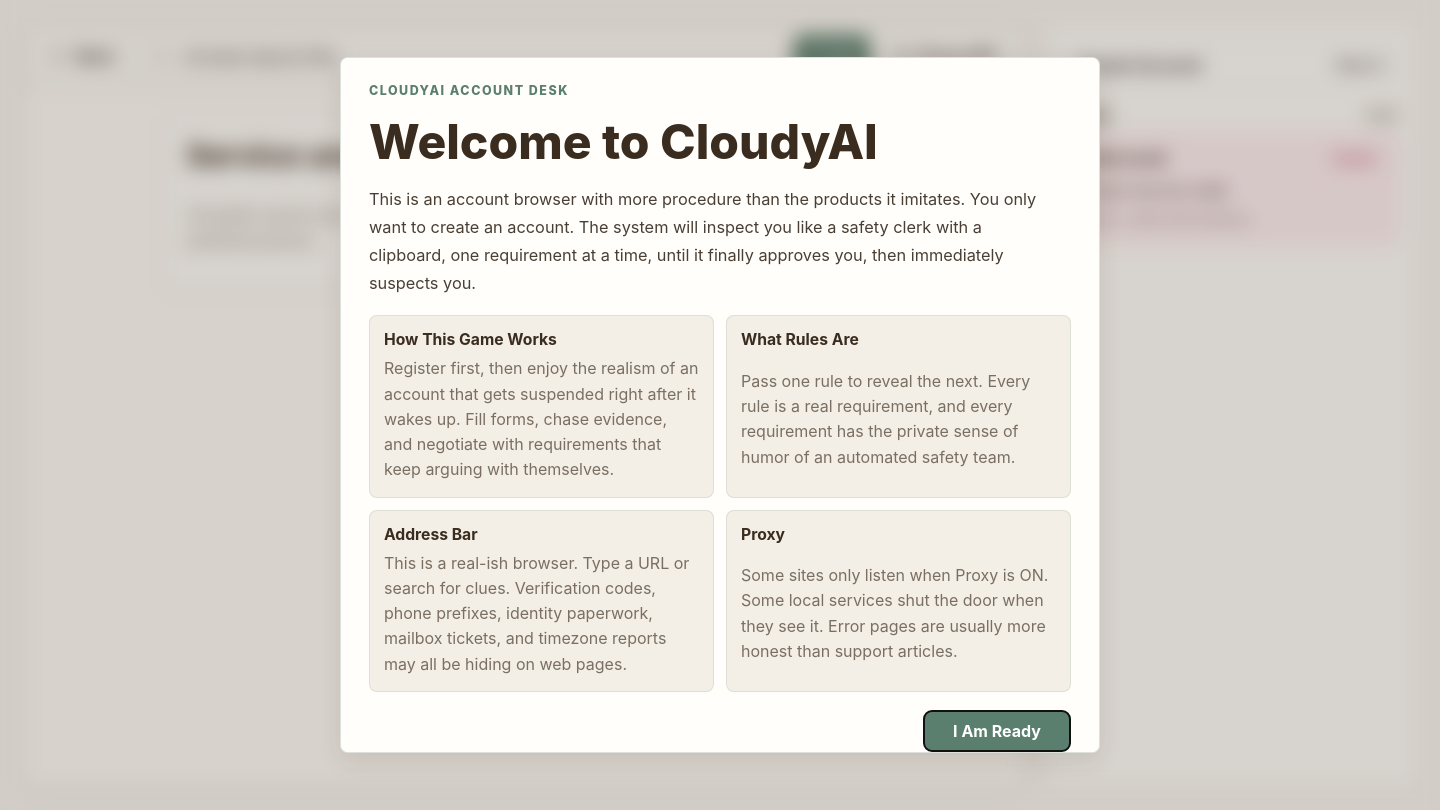
Test: App › remembers when the story briefing has been dismissed
Click the button "I Am Ready".
click(997, 731)  # box [923,710,1071,752]
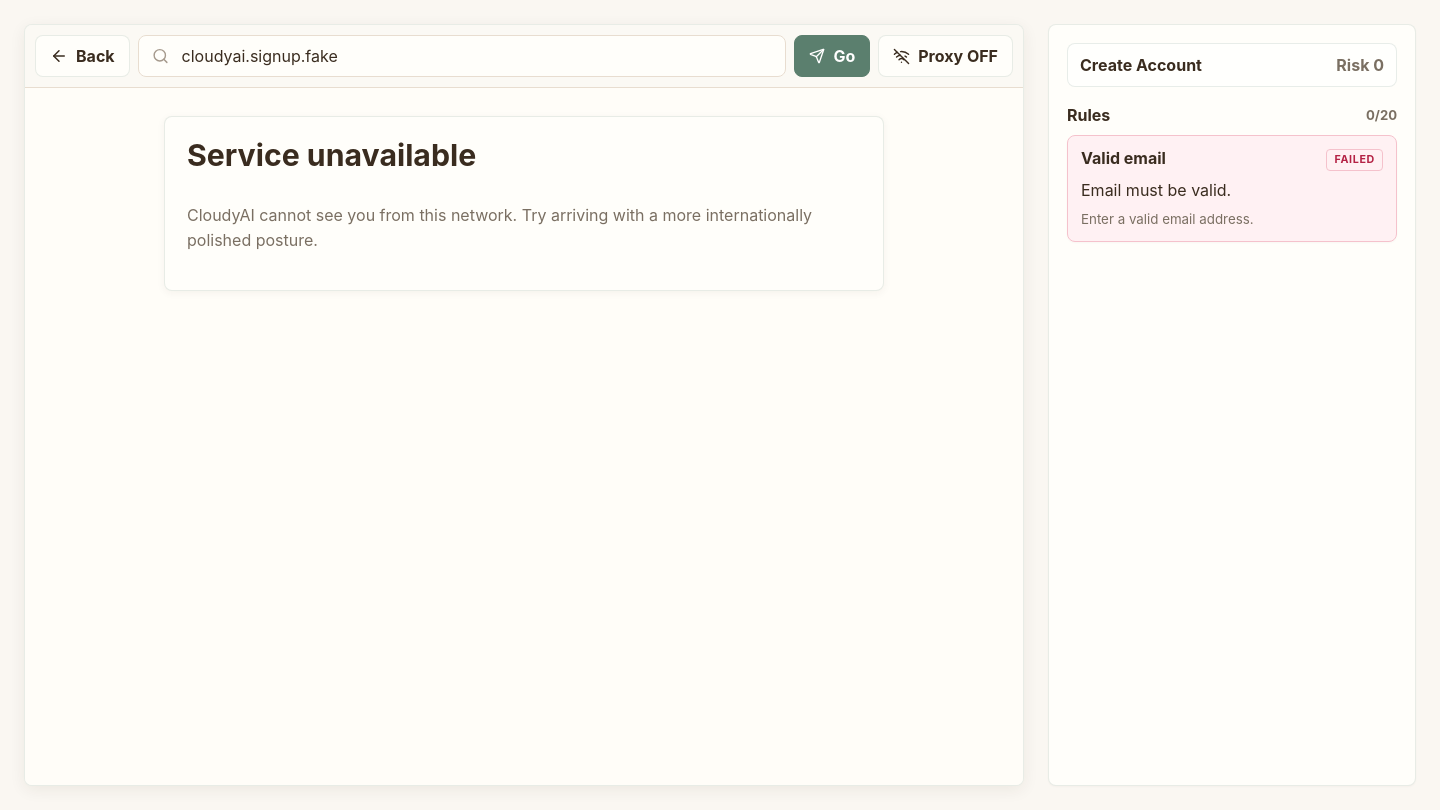
Expected: the heading "Welcome to CloudyAI" is gone
